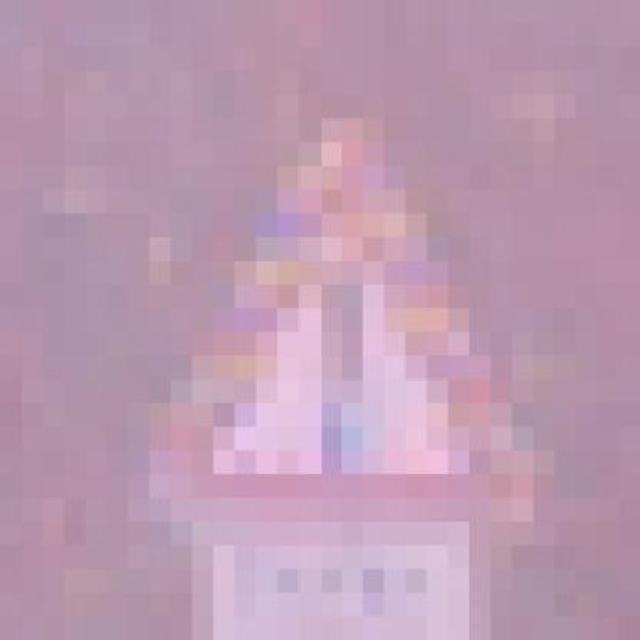Attention Please-: (87, 78, 535, 552)
